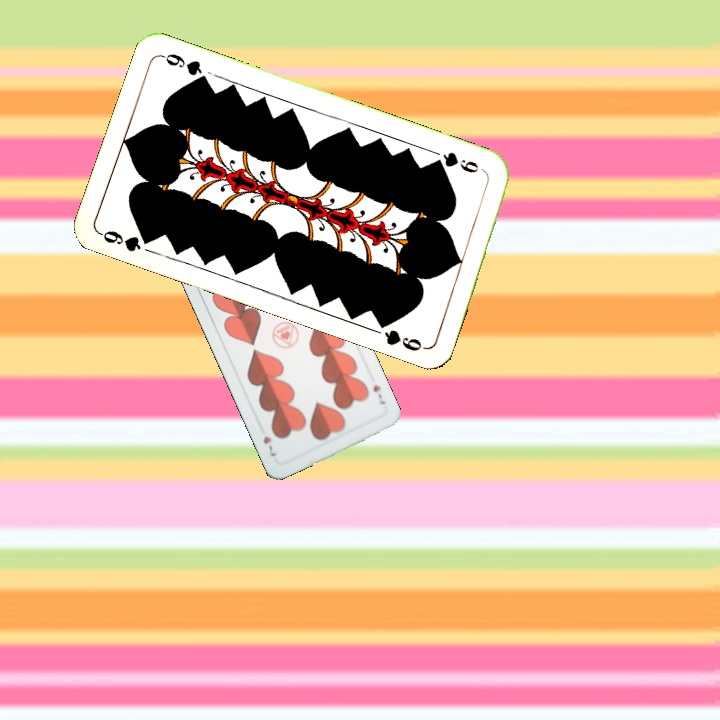G9: (96, 226, 157, 255), (429, 148, 489, 177)
H7: (369, 381, 388, 407)
